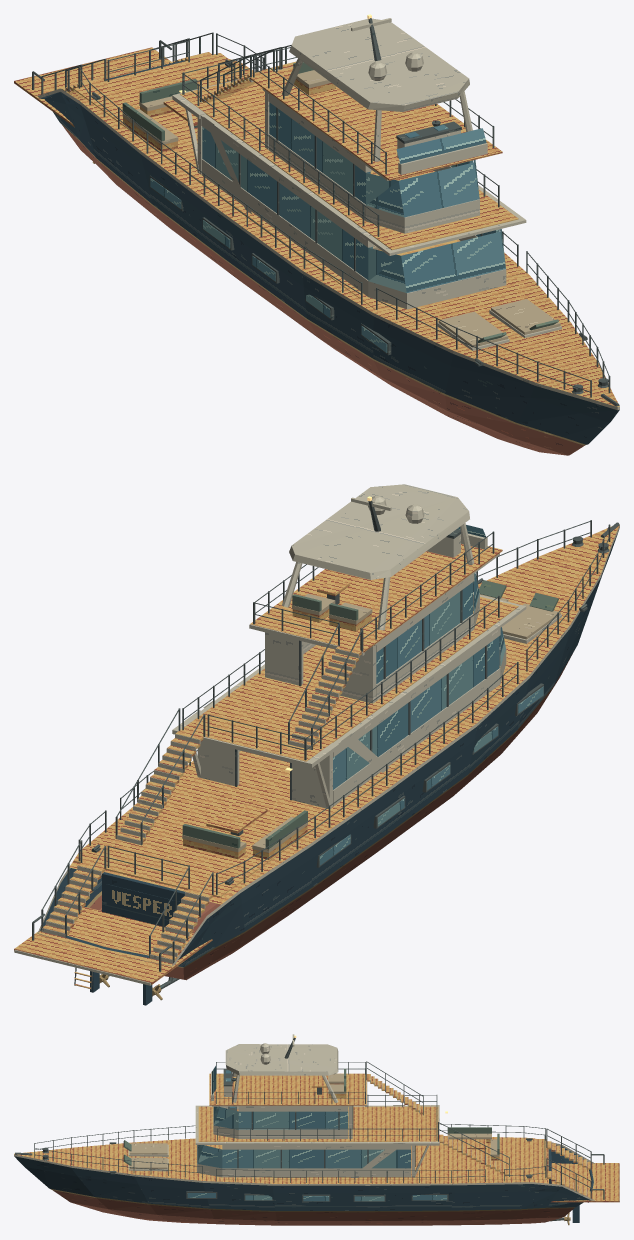
Rendered from vesper-yacht.glb.
3 renders of one model, top to bottom at view 1: azimuth 30°, elevation 25°; view 2: azimuth 150°, elevation 25°; view 3: azimuth 270°, elevation 25°, orthographic. The views are drawn at different scales.
Visible parts, largest first — view 1: hull_and_underbody, main_deck, flybridge, main_salon, wheelhouse, marine_hardware, pilothouse_deck, foredeck_sunpad_1.18, foredeck_sunpad_-1.18, aft_port_seating, aft_dining_bench, fly_lounge_-0.81; view 2: main_deck, hull_and_underbody, flybridge, main_salon, pilothouse_deck, marine_hardware, wheelhouse, foredeck_sunpad_-1.18, aft_dining_bench, sign_name, aft_port_seating, fly_lounge_-0.81 (+1 smaller); view 3: hull_and_underbody, main_deck, flybridge, main_salon, pilothouse_deck, wheelhouse, marine_hardware, foredeck_sunpad_1.18, foredeck_sunpad_-1.18, aft_port_seating.
Part boxes in pixels (box(x1,y1,x2,y2)): hull_and_underbody: box(37, 67, 619, 455); main_deck: box(14, 32, 619, 406); flybridge: box(249, 18, 502, 180); main_salon: box(197, 114, 526, 309); wheelhouse: box(262, 88, 479, 233); marine_hardware: box(32, 14, 619, 406); pilothouse_deck: box(180, 49, 518, 250); foredeck_sunpad_1.18: box(489, 299, 561, 337); foredeck_sunpad_-1.18: box(437, 311, 509, 350); aft_port_seating: box(122, 102, 178, 151); aft_dining_bench: box(139, 79, 197, 117); fly_lounge_-0.81: box(293, 62, 335, 95); main_deck: box(14, 524, 619, 985); hull_and_underbody: box(37, 525, 619, 980); flybridge: box(249, 484, 502, 655); main_salon: box(197, 595, 526, 808); pilothouse_deck: box(180, 596, 518, 761); marine_hardware: box(32, 495, 619, 1005); wheelhouse: box(265, 553, 499, 703); foredeck_sunpad_-1.18: box(502, 593, 561, 643); aft_dining_bench: box(182, 824, 246, 859); sign_name: box(106, 885, 178, 919); aft_port_seating: box(252, 810, 307, 859); fly_lounge_-0.81: box(329, 602, 372, 631); hull_and_underbody: box(14, 1142, 594, 1225); main_deck: box(14, 1105, 619, 1202); flybridge: box(209, 1044, 367, 1106); main_salon: box(195, 1105, 415, 1177); pilothouse_deck: box(198, 1061, 438, 1141); wheelhouse: box(212, 1105, 353, 1138); marine_hardware: box(15, 1034, 604, 1225); foredeck_sunpad_1.18: box(123, 1154, 168, 1171); foredeck_sunpad_-1.18: box(123, 1140, 168, 1156); aft_port_seating: box(447, 1127, 491, 1143).
Size of the model in its own units: 7.92 by 13.88 by 41.94.
11 materials, 11 textured.
